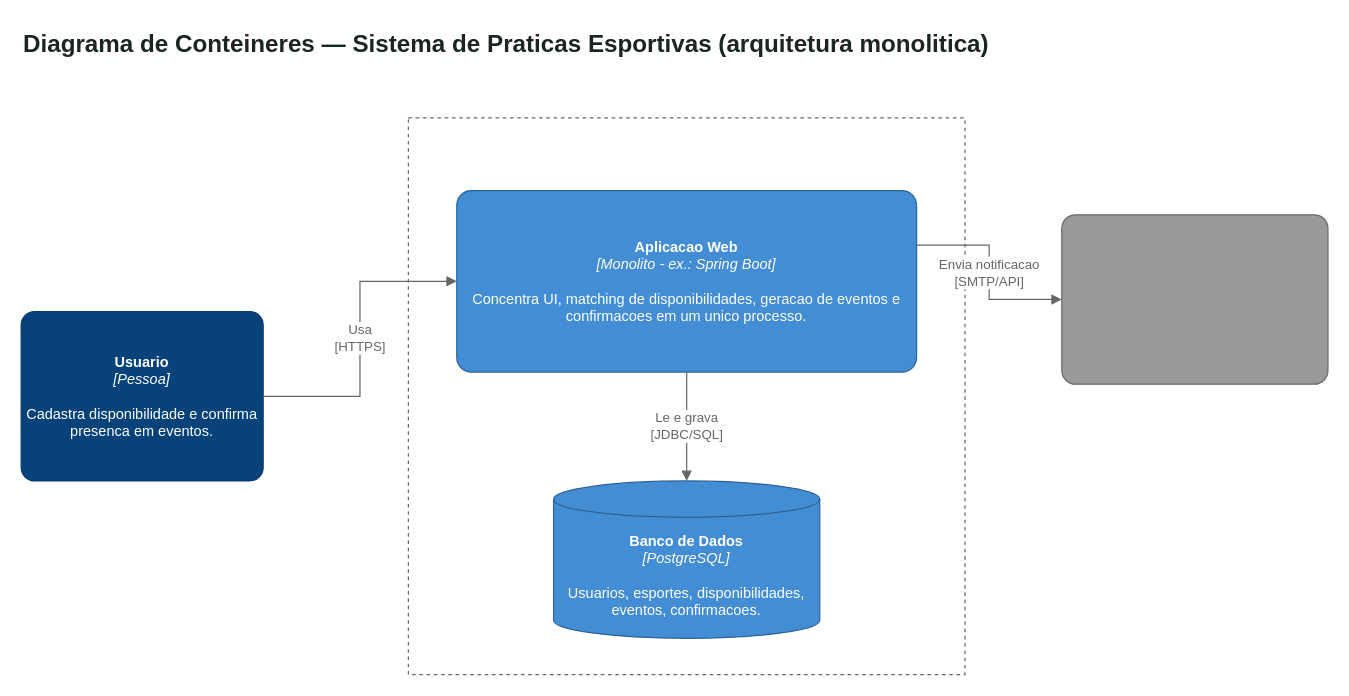
The diagram is 1349 pixels wide and 696 high, and some of its shapes have lost their labels. The shapes that lost their labels are listed below. From the top down, each one's box as (x1, y1, x2, y2) in pixels, then its label:
(1061, 214, 1328, 384): Servico de E-mail [Sistema de Software Externo] Envio de notificacoes.
(407, 117, 965, 675): Sistema de Praticas Esportivas
